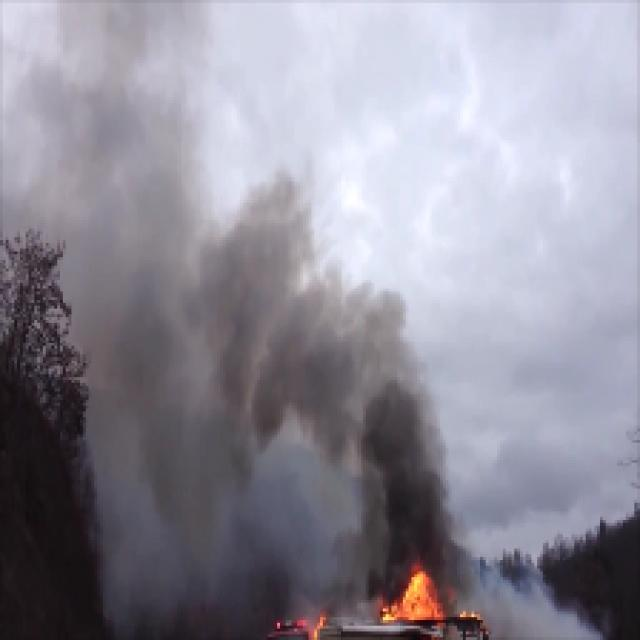fire: (398, 566, 439, 615)
smoke: (276, 301, 375, 425), (364, 427, 445, 560)
